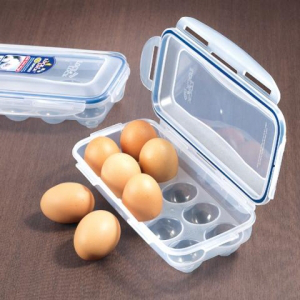egg: (84, 116, 188, 219), (36, 177, 124, 261)
